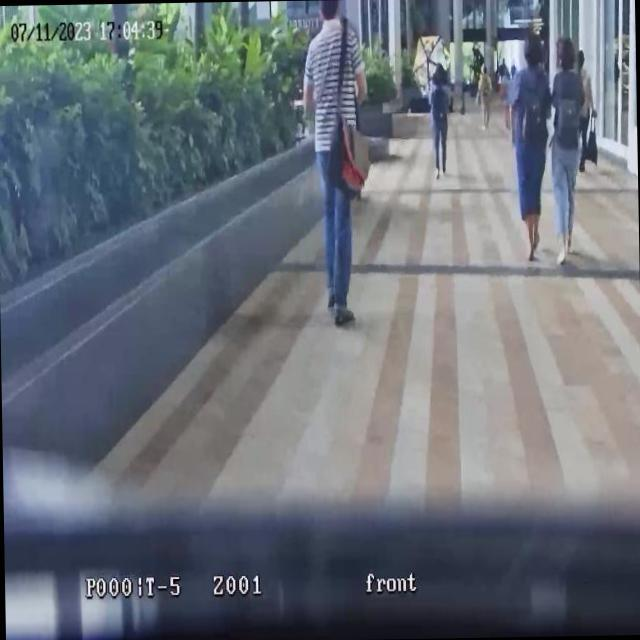person: (300, 0, 372, 325), (506, 35, 554, 264), (546, 34, 589, 264), (576, 50, 598, 178), (429, 64, 452, 178), (496, 60, 512, 130), (478, 64, 492, 131), (459, 75, 468, 114), (509, 62, 516, 80)
